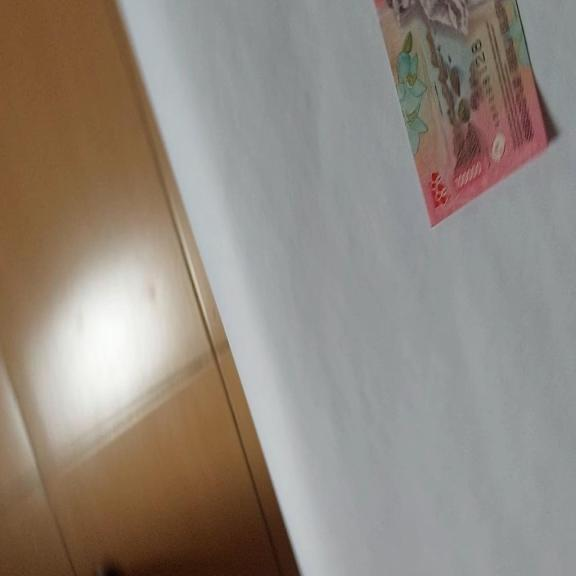Kertas: (376, 0, 549, 228)
